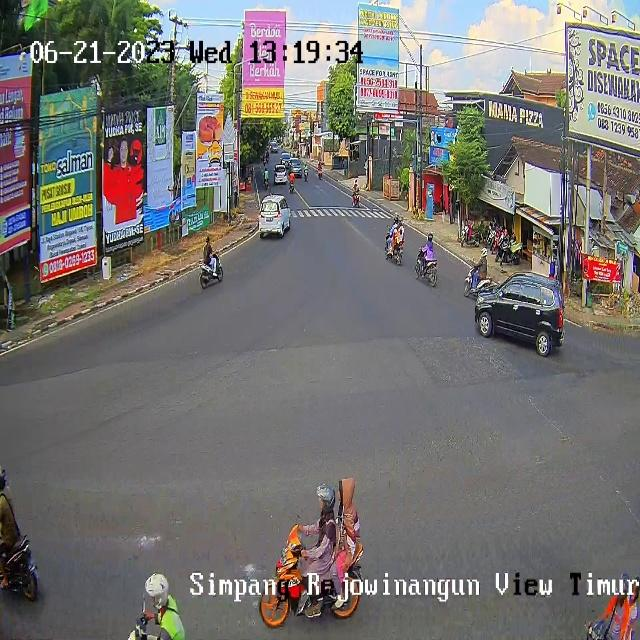bus: (257, 522, 364, 627), (0, 534, 39, 602), (464, 262, 493, 298), (199, 249, 224, 290), (414, 247, 439, 286), (384, 228, 404, 264), (124, 613, 149, 640), (584, 620, 606, 640), (353, 188, 361, 206), (288, 179, 296, 193), (318, 166, 324, 180), (304, 167, 308, 181), (264, 177, 268, 188)
motorcycle: (475, 271, 564, 357), (258, 195, 291, 237), (273, 164, 288, 185), (289, 158, 302, 175), (280, 152, 291, 165)
